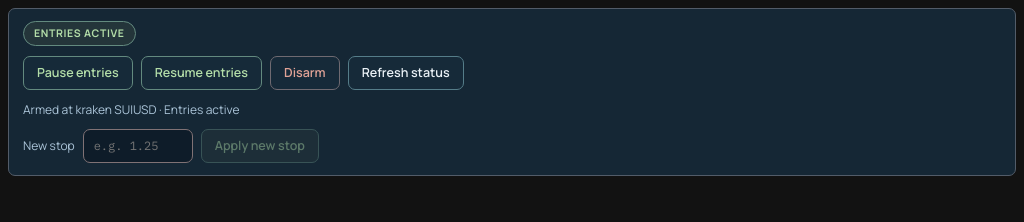
Test: EditorInlineStopControl Signal slice — raise-stop outcome › fills Apply coral and captions the summarizePaperCommandRefusal reason verbatim after a refusal
Type "0.25" into the field with test id "editor-inline-stop-new-stop" at (138,146), box [83, 129, 193, 163]
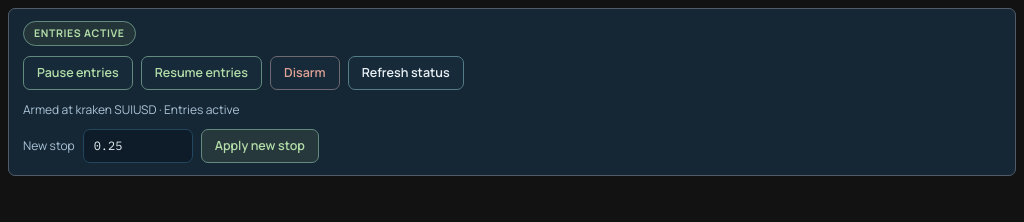
Now the button with test id "editor-inline-stop-apply" is enabled
Click the button with test id "editor-inline-stop-apply" at (260,146), box [201, 129, 319, 163]
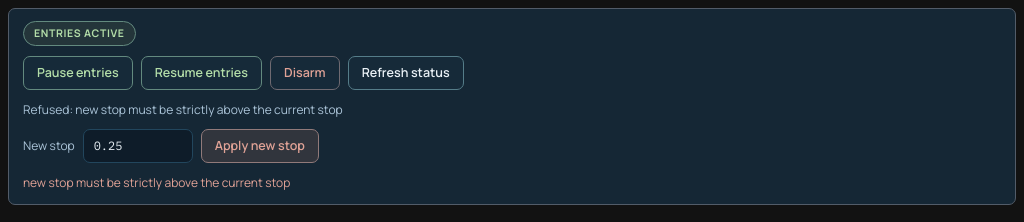
Now the message with test id "editor-inline-stop-error" reads "new stop must be strictly above the current stop", box [23, 174, 290, 191]
